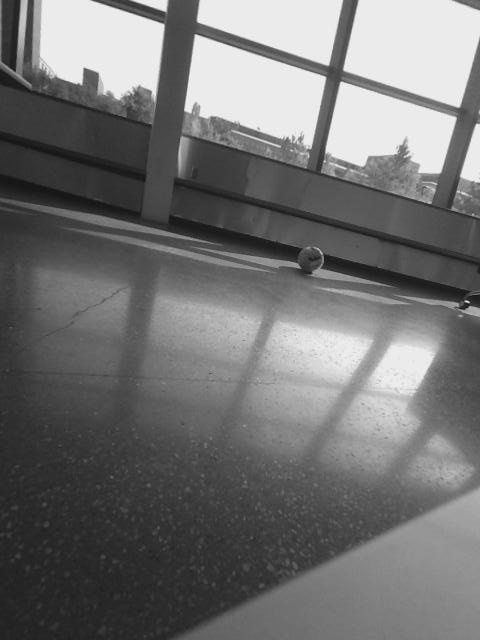ball: (298, 244, 328, 273)
